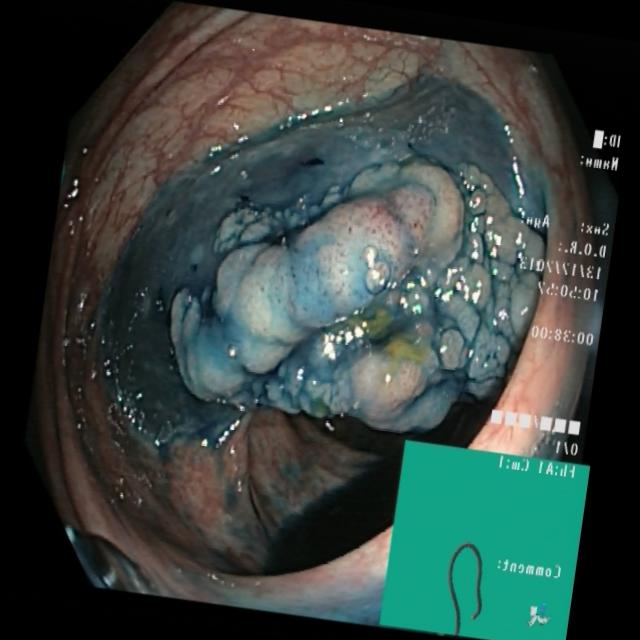dyed-lifted-polyps: (146, 153, 561, 438)
